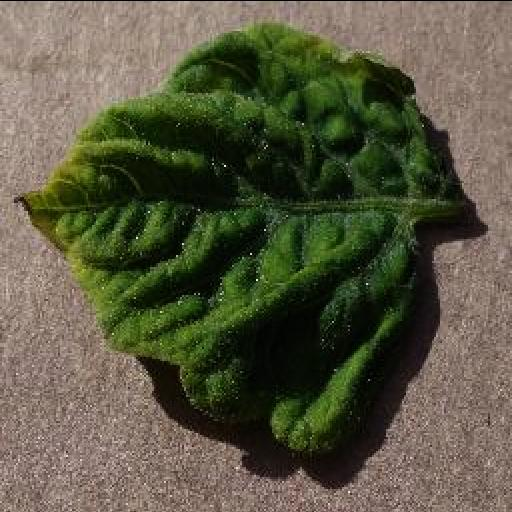disease_tomato: (16, 22, 456, 454)
